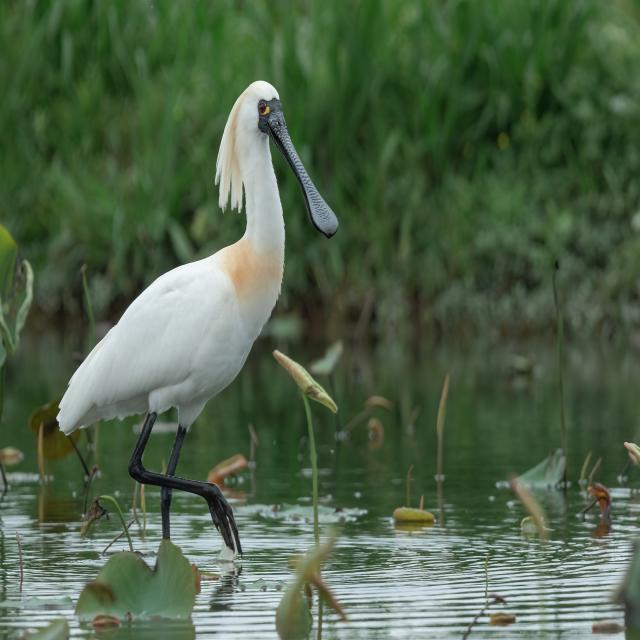Black-faced spoonbill: (58, 82, 338, 556)
